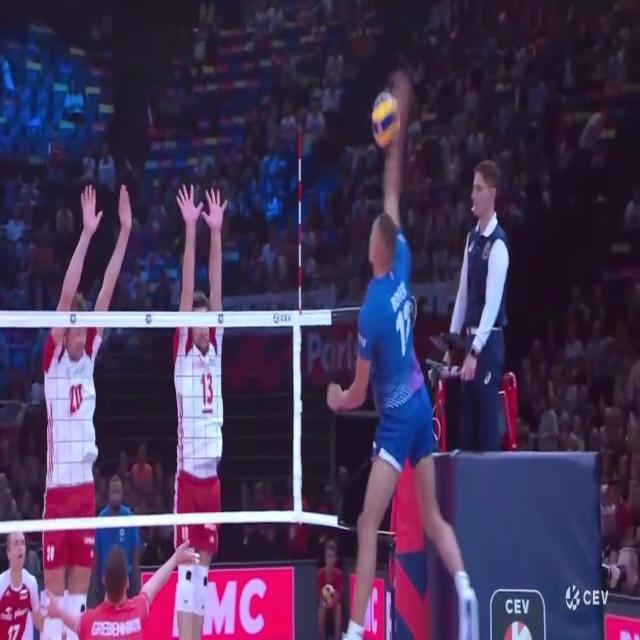volleyball: (372, 92, 399, 148)
